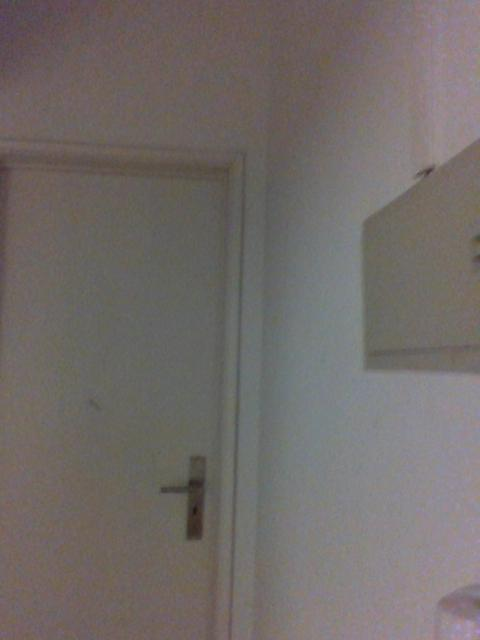door: (1, 168, 227, 640)
